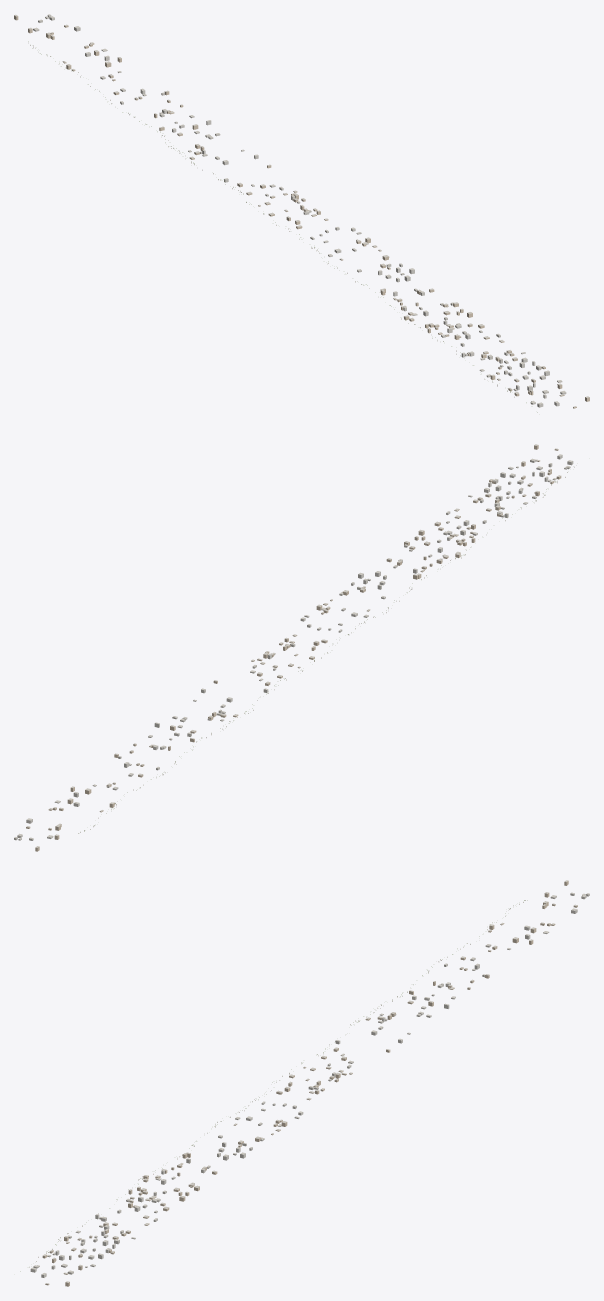
File: SM_JeddahCorniche_Far_City_3.fbx
The picture shows the model from 3 angles, top to bottom: view 1: azimuth 30°, elevation 25°; view 2: azimuth 150°, elevation 25°; view 3: azimuth 330°, elevation 25°; orthographic projection.
Visible parts, largest first — view 1: SM_JeddahCorniche_Far_City_3; view 2: SM_JeddahCorniche_Far_City_3; view 3: SM_JeddahCorniche_Far_City_3.
Boxes of the visible parts, x1,y1,x2,y2 form: SM_JeddahCorniche_Far_City_3: (14,14,589,412); SM_JeddahCorniche_Far_City_3: (14,444,574,851); SM_JeddahCorniche_Far_City_3: (20,880,589,1286).
Bounding box in the file's own units: 49058 × 3772 × 782035.
